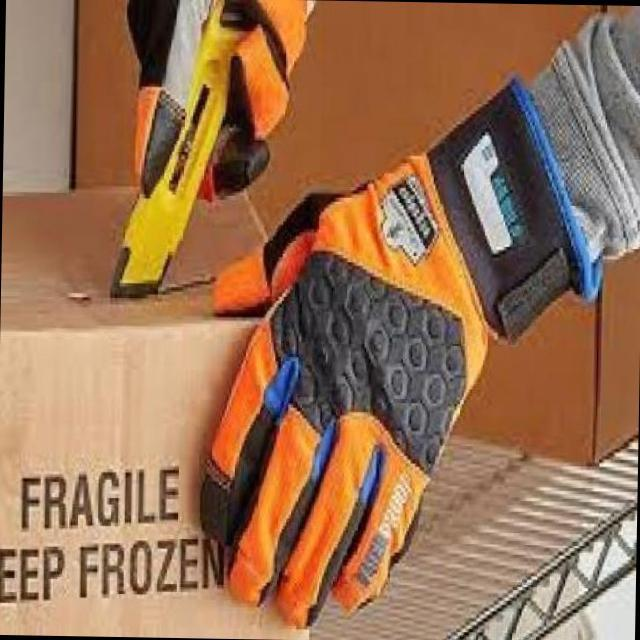Gloves: (200, 63, 605, 629), (122, 0, 322, 197)
